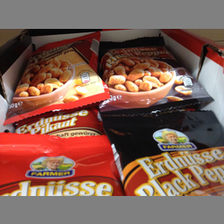nuts: (100, 110, 224, 196), (96, 36, 215, 112), (6, 33, 106, 118)
